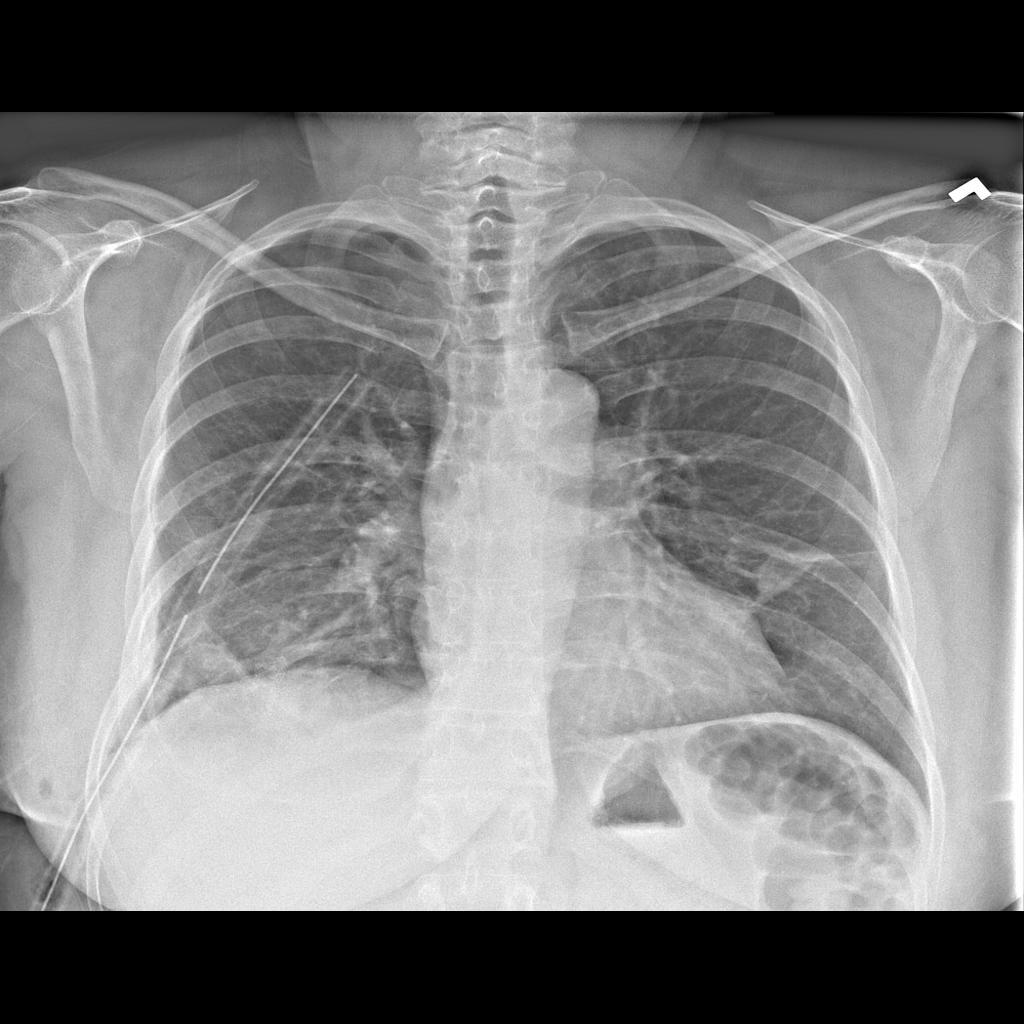Nodule: (755, 544, 828, 600)
